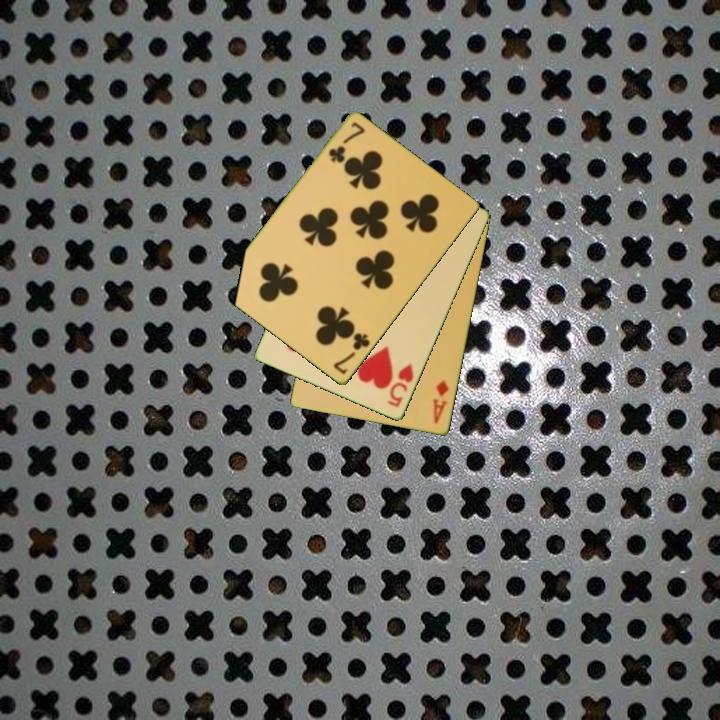5h: (384, 360, 417, 411)
7c: (330, 329, 373, 378), (325, 119, 368, 166)
Ad: (429, 377, 452, 427)
